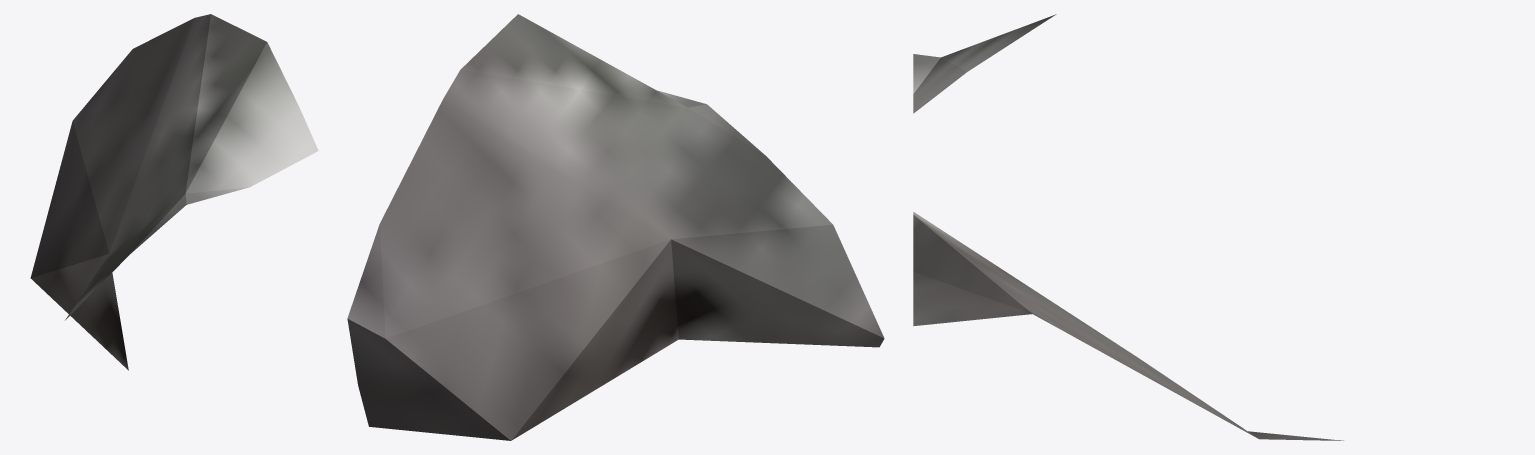
3 views of the same model, side by side, from view 1: azimuth 30°, elevation 25°; view 2: azimuth 150°, elevation 25°; view 3: azimuth 270°, elevation 25° (orthographic). The views are drawn at different scales.
Bounding box in the file's own units: 0.035 × 0.0344 × 0.0433.
1 material, 1 textured.
